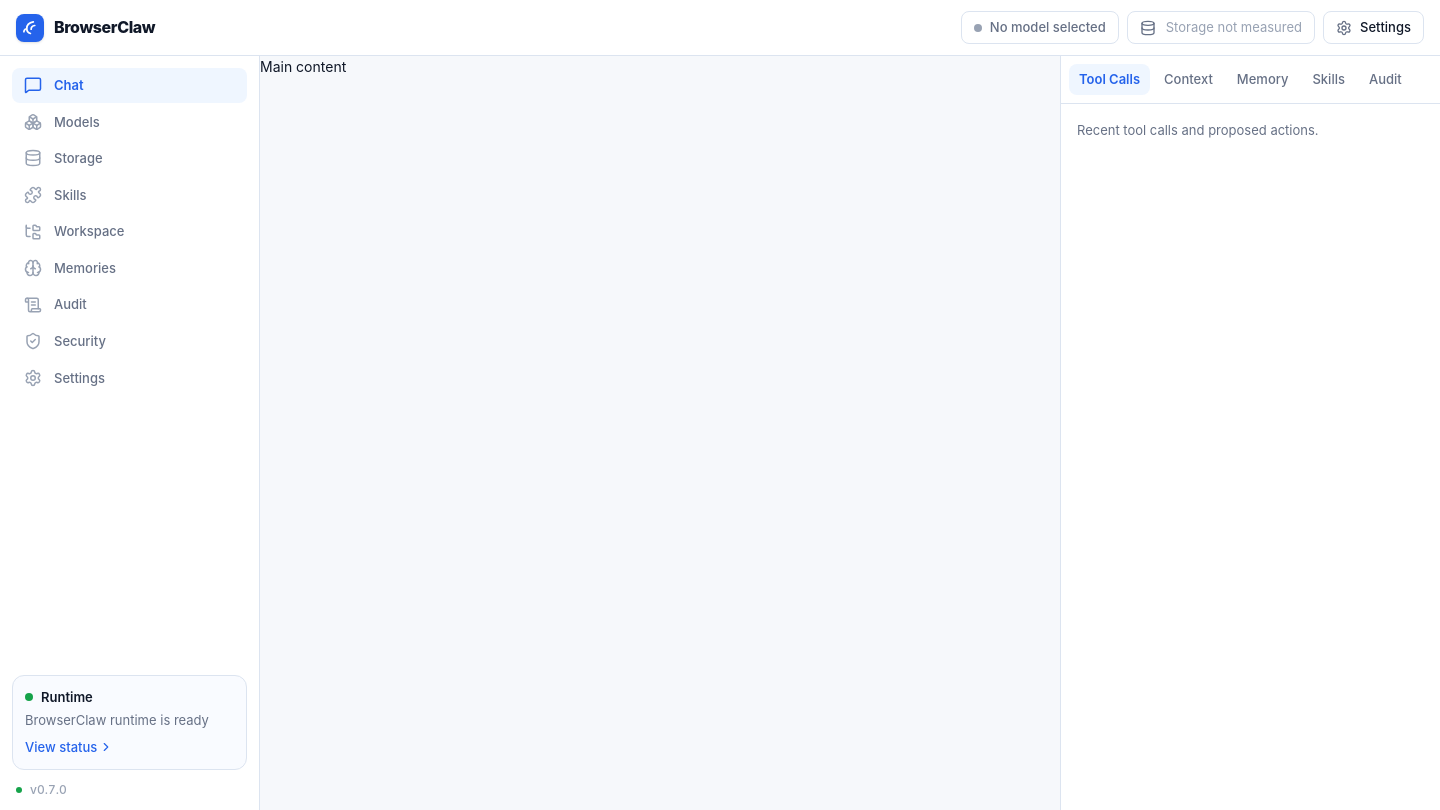
Test: AppShell › switches inspector tab panels on click
Expected: the text "Recent tool calls and proposed actions." is shown, [1077, 122, 1319, 138]
Click the tab "Memory". click: (1263,79)
box: [1227, 64, 1298, 95]
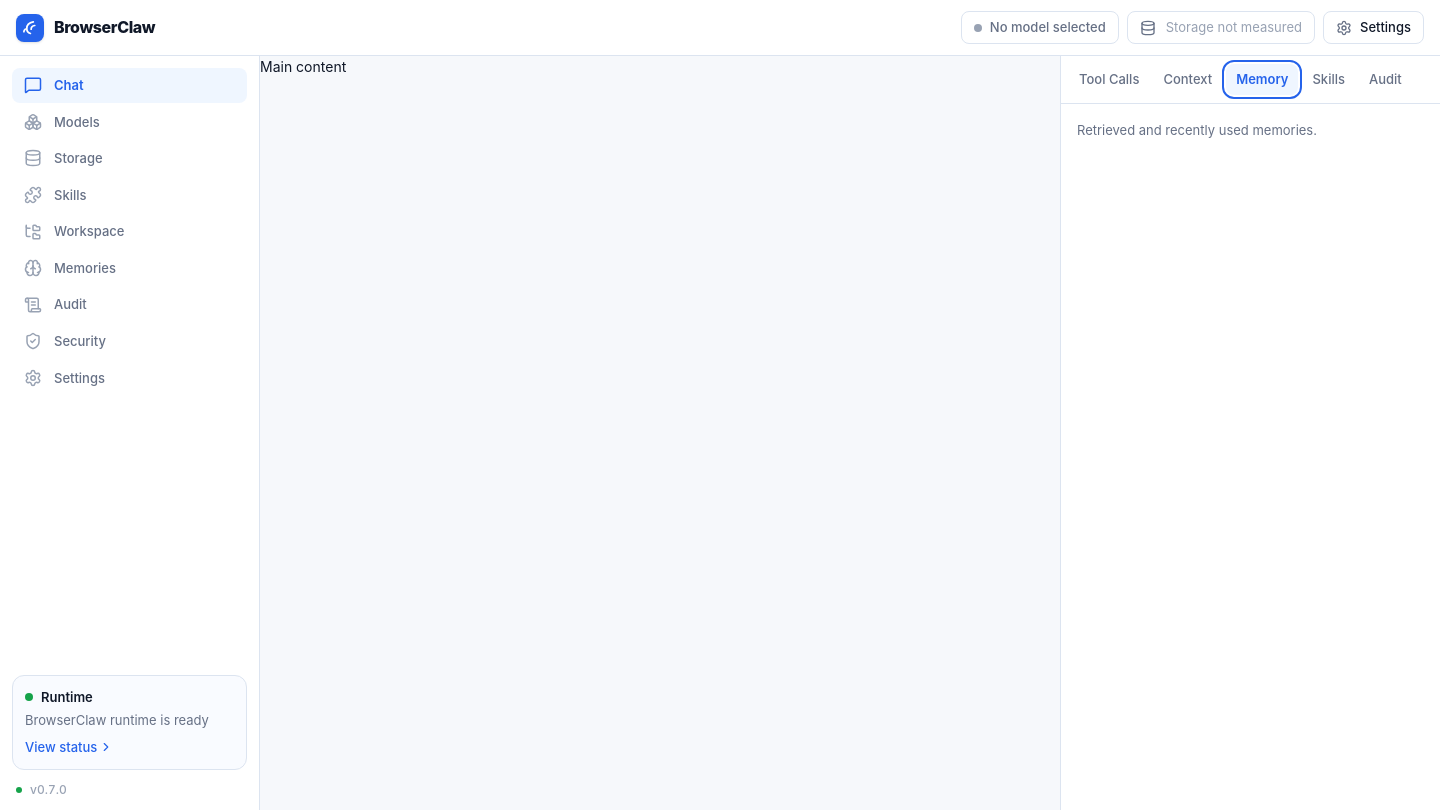
Result: the text "Retrieved and recently used memories." is shown at [1077, 122, 1317, 138]
